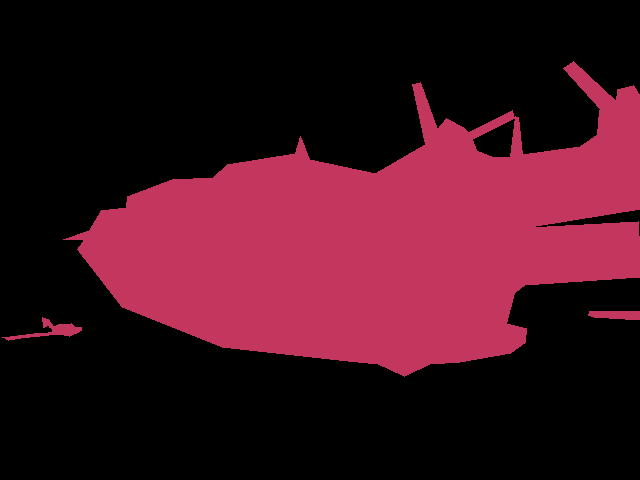Airplane: (63, 61, 640, 376), (2, 317, 82, 340), (588, 310, 640, 320)
